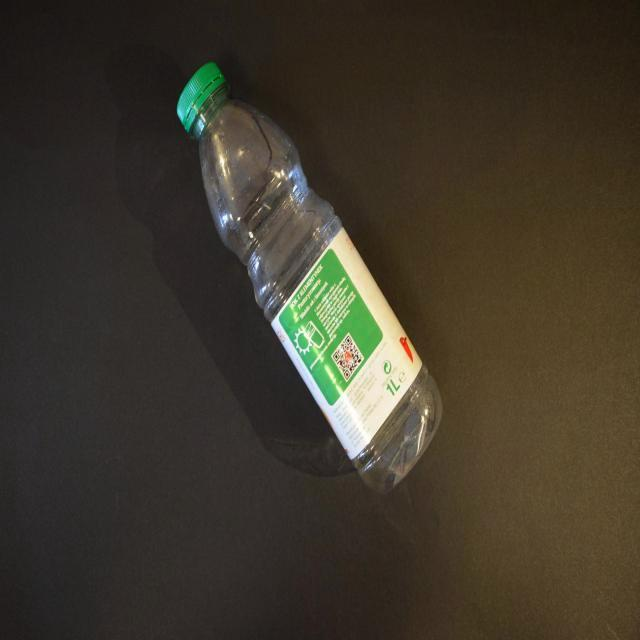bottle: (177, 61, 444, 493)
